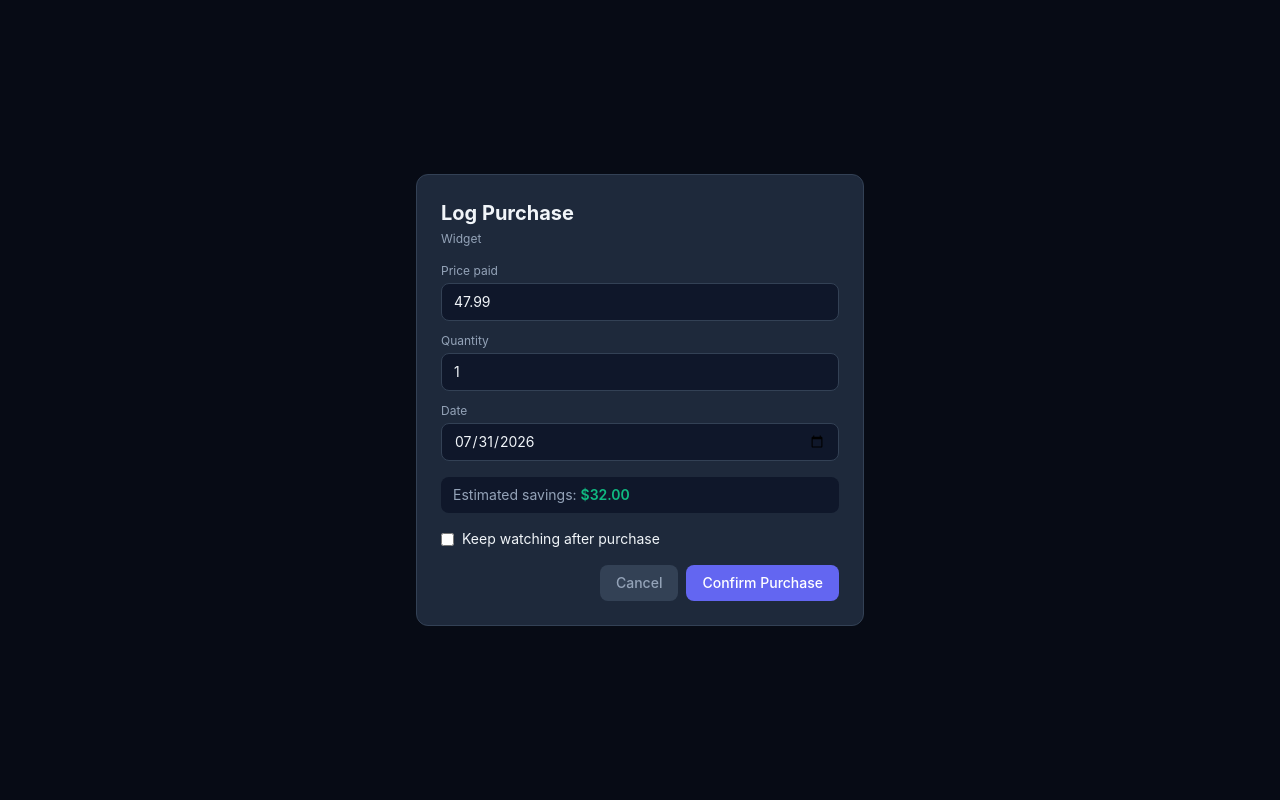
Test: PurchaseModal › clamps savings at $0 when price exceeds first_price
The image size is (1280, 800).
Replace the text in the number field labelled "Price paid" with "100" at coordinates (640, 302), box [441,283,839,321]
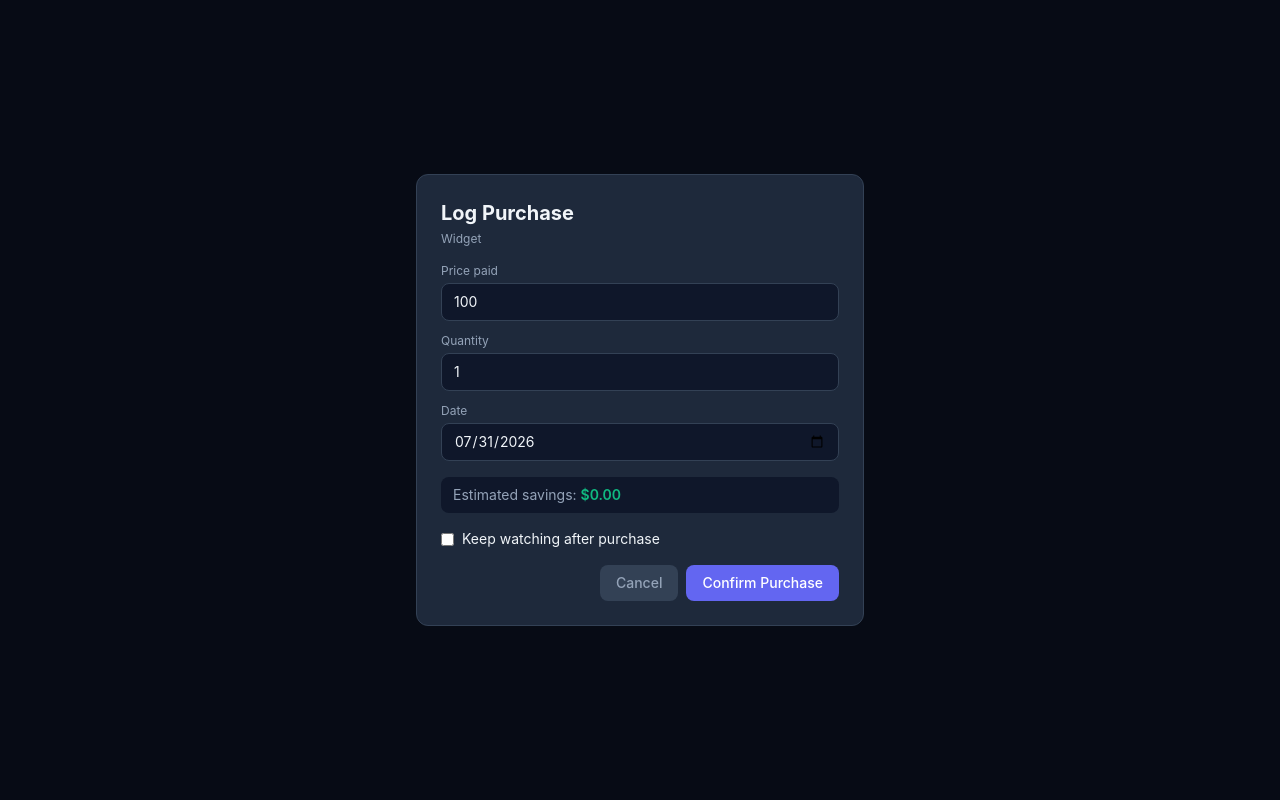
Check: the text "Estimated savings: $0.00" is shown, box [441,477,839,513]
